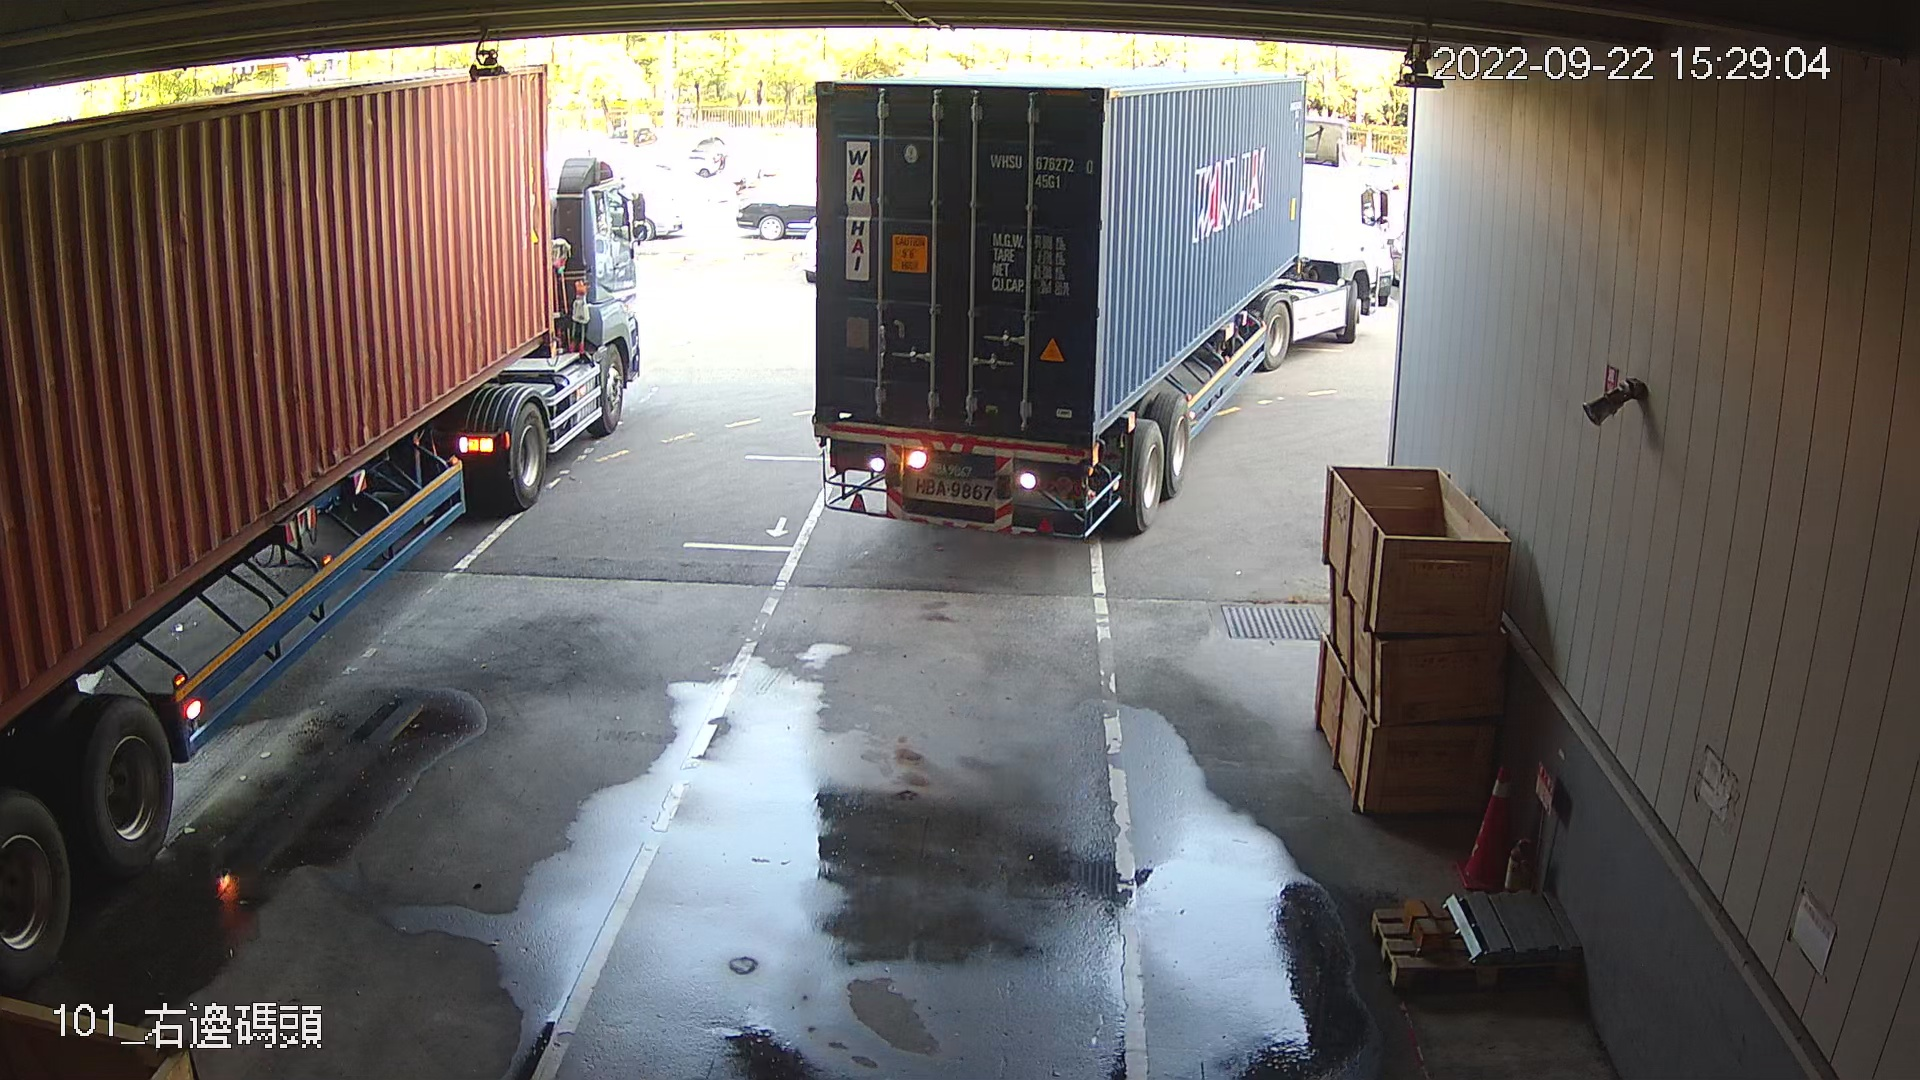container: (982, 148, 1100, 198)
